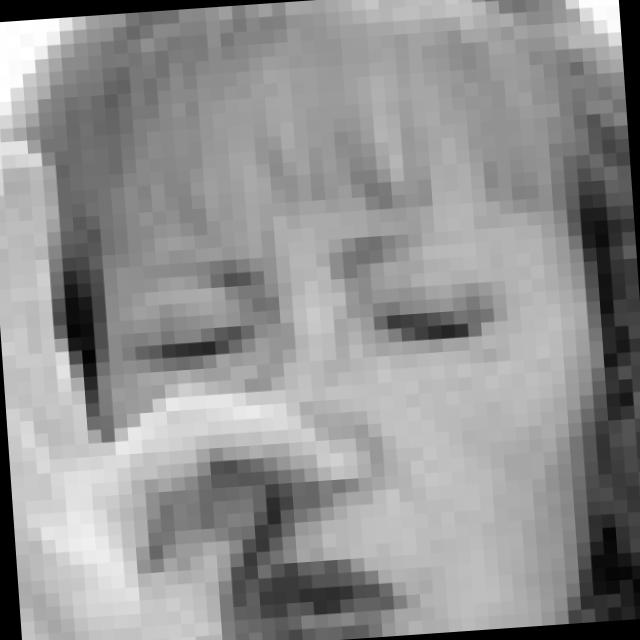disgust: (101, 211, 532, 640)
